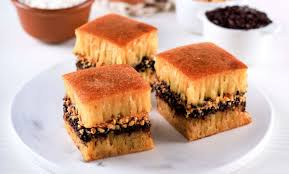Martabak manis: (50, 64, 159, 163), (153, 40, 256, 142), (71, 10, 162, 65)
